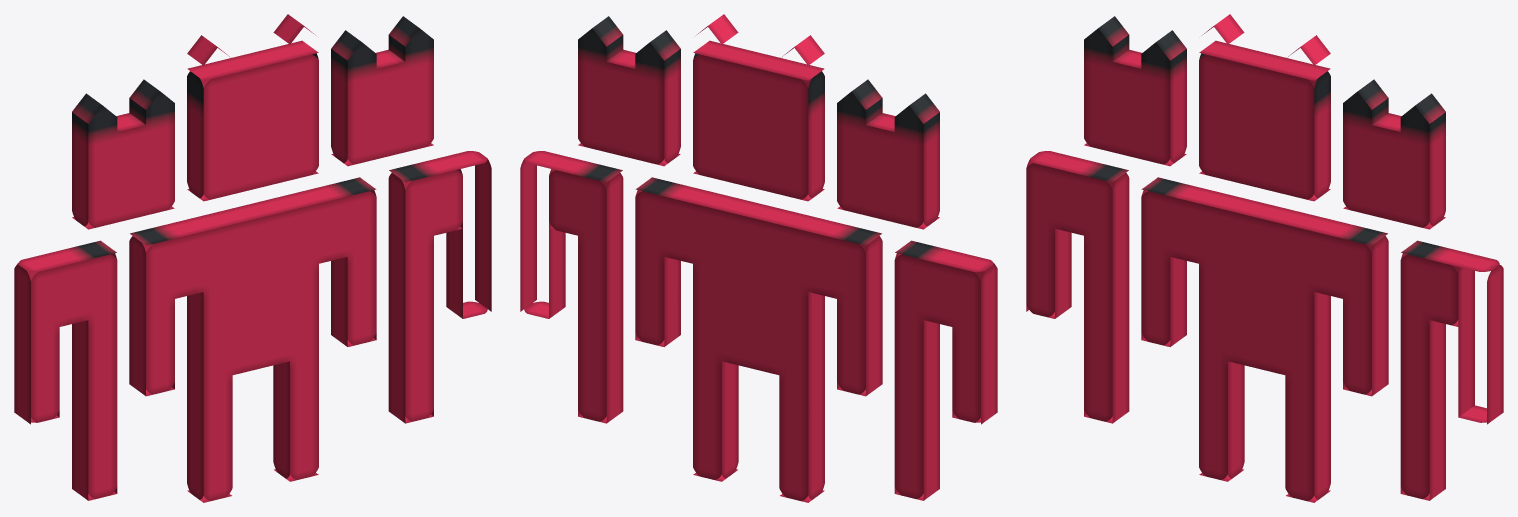
Rendered from KillCounter.fbx.
The picture shows the model from 3 angles, left to right: view 1: azimuth 30°, elevation 25°; view 2: azimuth 150°, elevation 25°; view 3: azimuth 330°, elevation 25°; orthographic projection.
Parts seen in each view (by area): view 1: generated; view 2: generated; view 3: generated.
Part boxes in pixels (x1,y1,x2,y2): generated: [14, 14, 491, 502]; generated: [520, 14, 997, 502]; generated: [1026, 14, 1503, 502].
Bounding box in the file's own units: 160 × 150 × 10.
